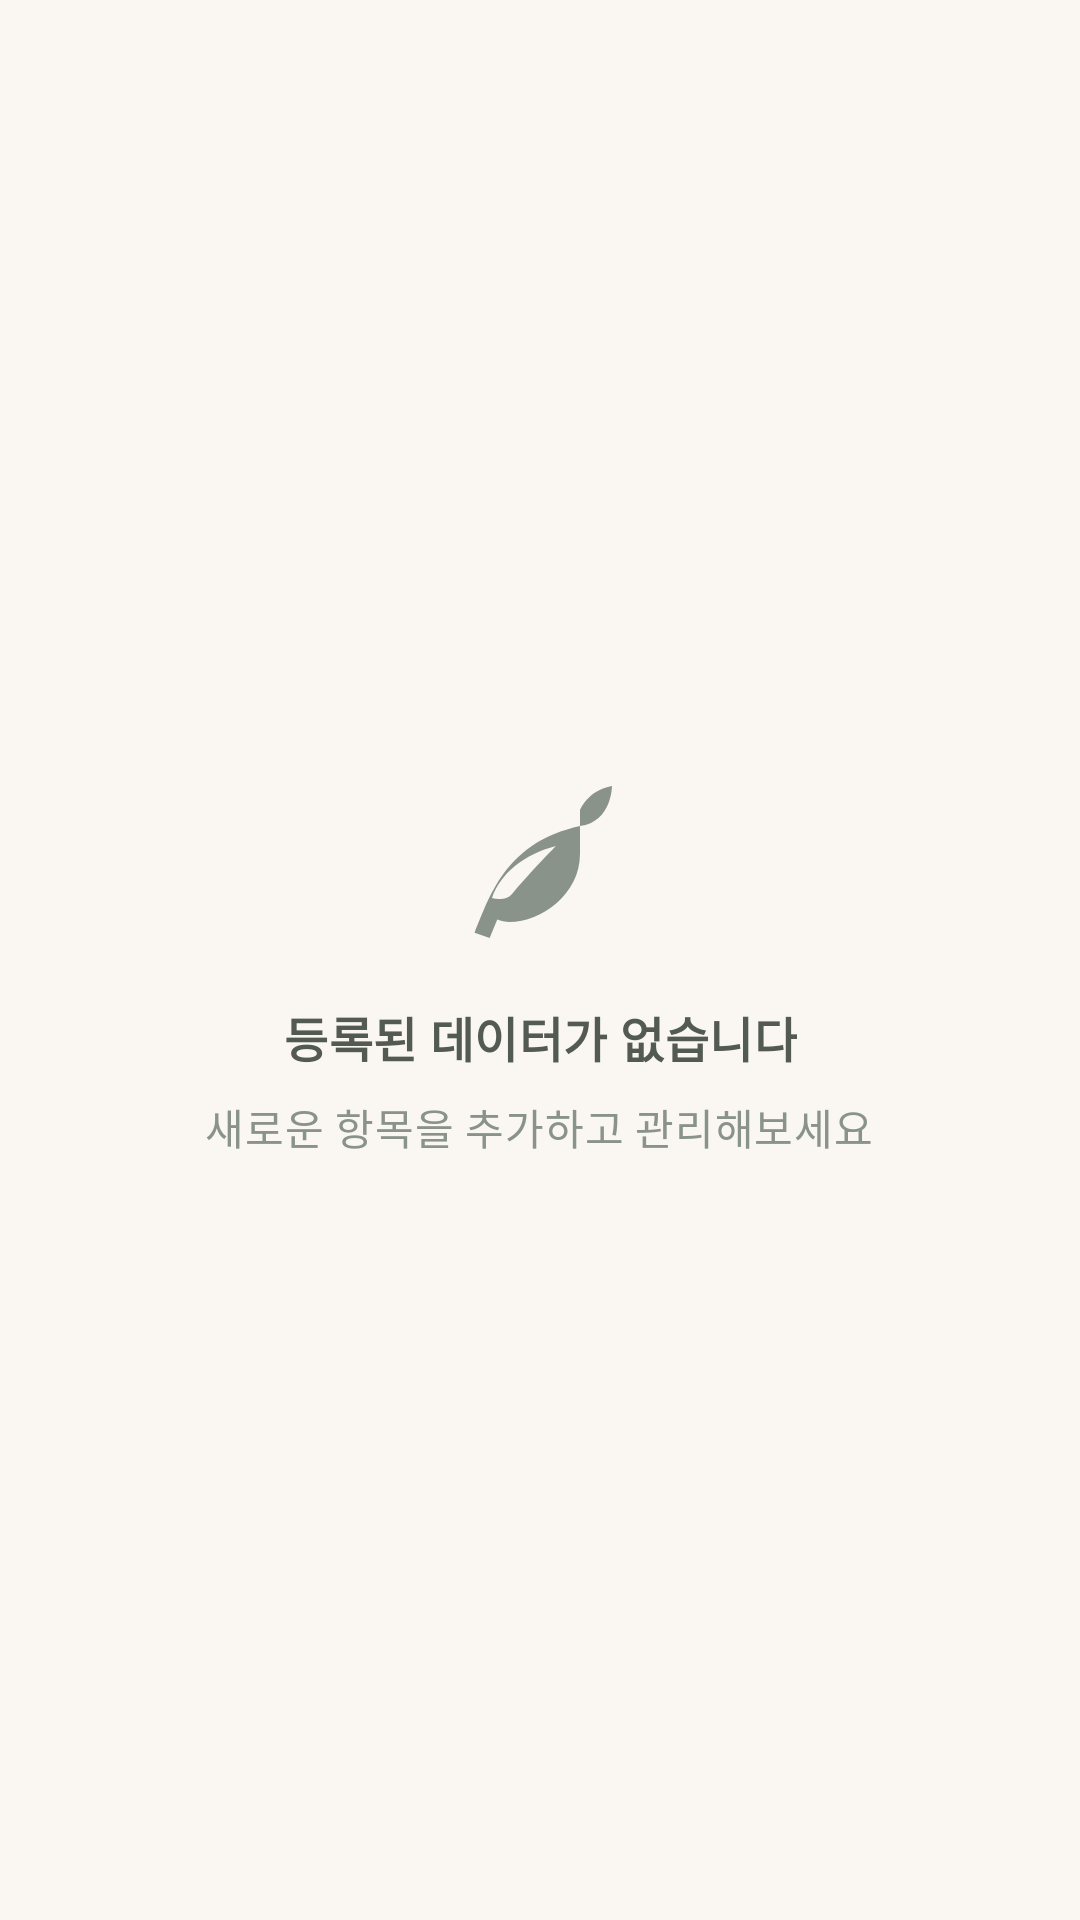

Icons on this 1080w x 1920h Android screen, each with its box as region(x1, y1, x2, y2):
kiuda leaf: region(474, 786, 612, 938)
